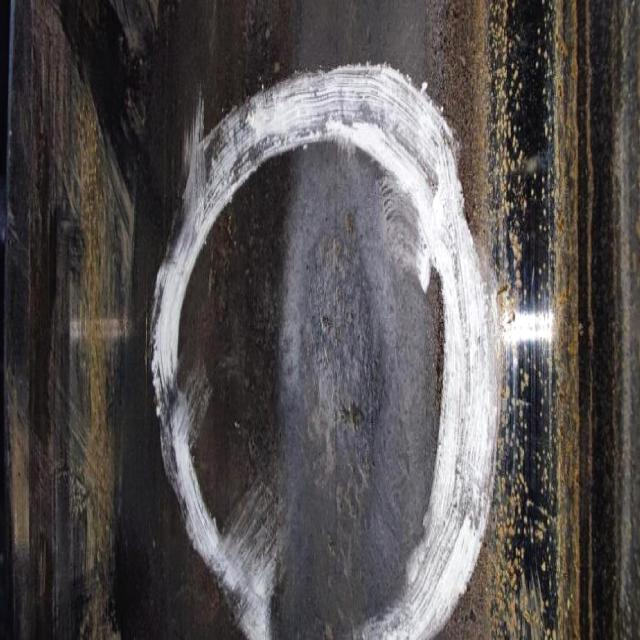geshang: (293, 211, 392, 555)
